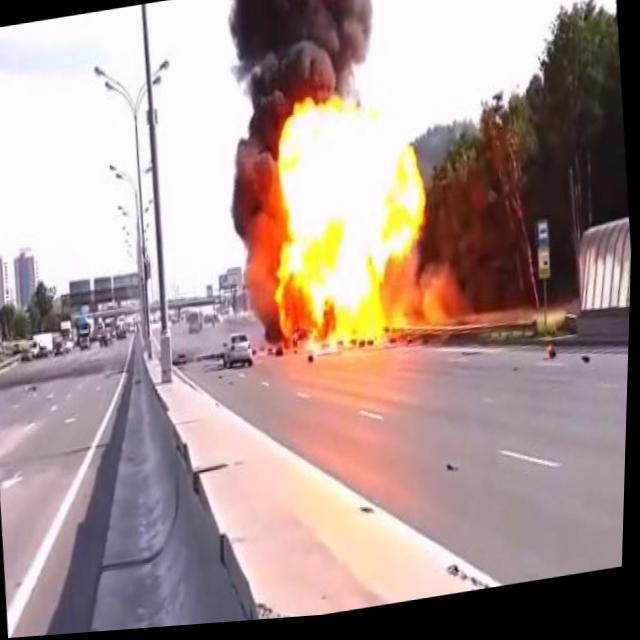fire: (242, 73, 454, 376)
